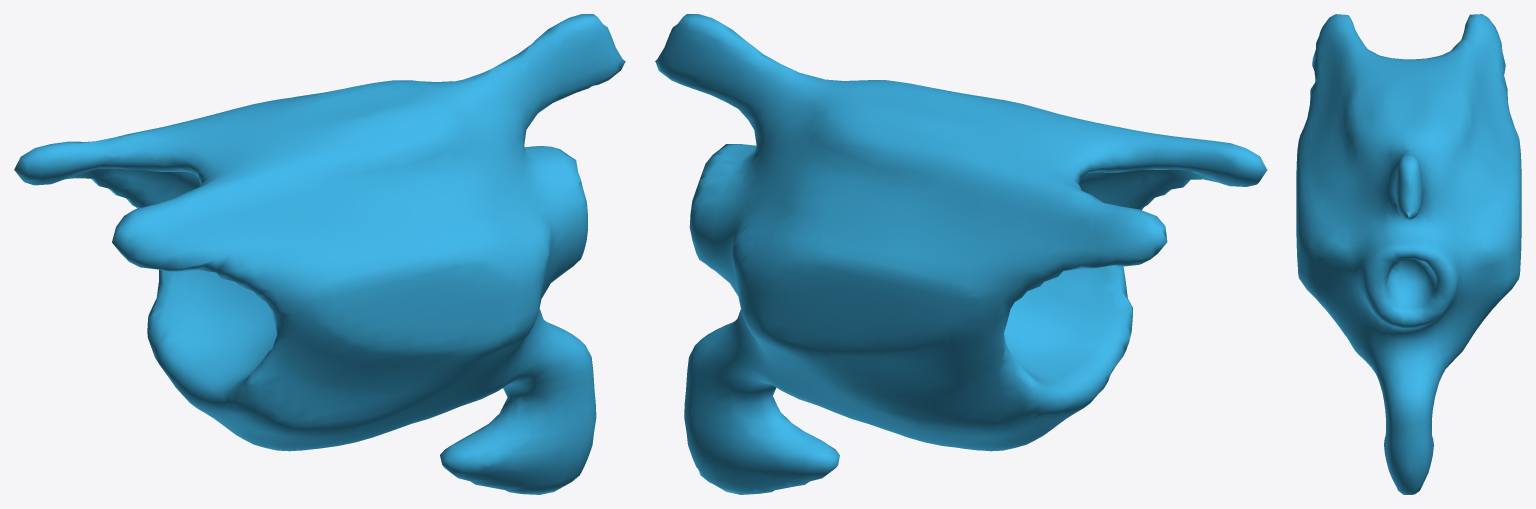
File: Hookblaster.fbx
3 views of the same model, side by side, from view 1: azimuth 30°, elevation 25°; view 2: azimuth 150°, elevation 25°; view 3: azimuth 270°, elevation 25° (orthographic). The views are drawn at different scales.
Parts seen in each view (by area): view 1: Hookblaster; view 2: Hookblaster; view 3: Hookblaster.
Part boxes in pixels (<box>): Hookblaster: <box>14,14,625,494</box>; Hookblaster: <box>655,14,1267,494</box>; Hookblaster: <box>1296,14,1521,494</box>.
Bounding box in the file's own units: 50.96 × 40.23 × 23.85.
